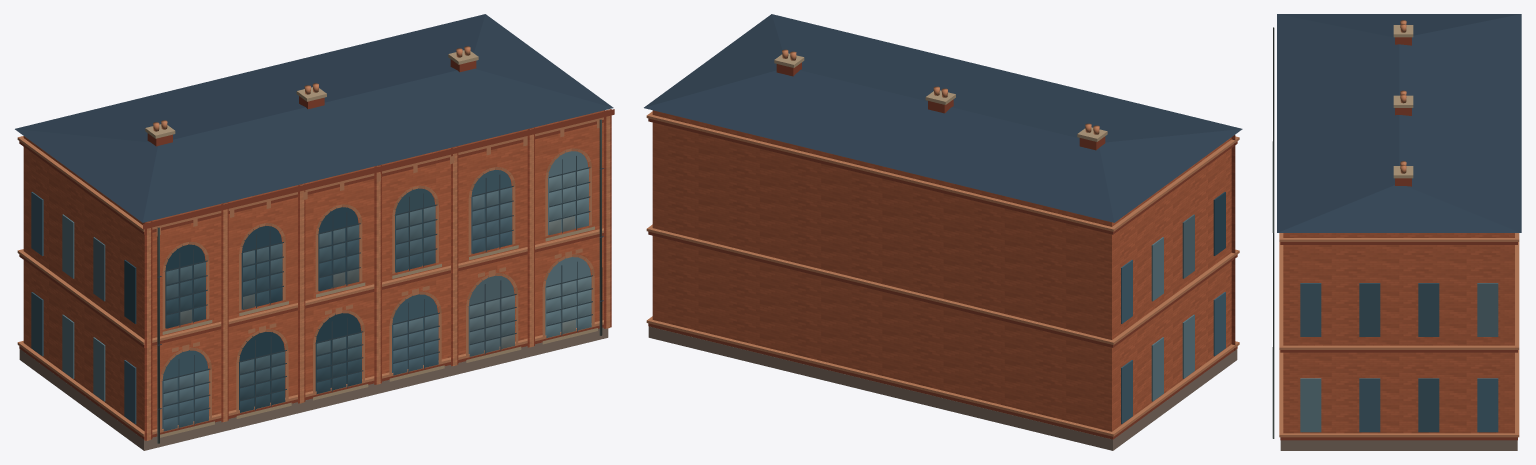
Rendered from brick-mill-wing-distance.glb.
The picture shows the model from 3 angles, left to right: view 1: azimuth 30°, elevation 25°; view 2: azimuth 150°, elevation 25°; view 3: azimuth 270°, elevation 25°; orthographic projection. The views are drawn at different scales.
Parts seen in each view (by area): view 1: brick-mill-wing-distance; view 2: brick-mill-wing-distance; view 3: brick-mill-wing-distance.
Part boxes in pixels (bbox=[...]): brick-mill-wing-distance: bbox=[15, 14, 614, 450]; brick-mill-wing-distance: bbox=[644, 14, 1242, 450]; brick-mill-wing-distance: bbox=[1272, 14, 1521, 450].
Size of the model in its own units: 24.65 by 13.06 by 11.84.
2 materials, 1 textured.
